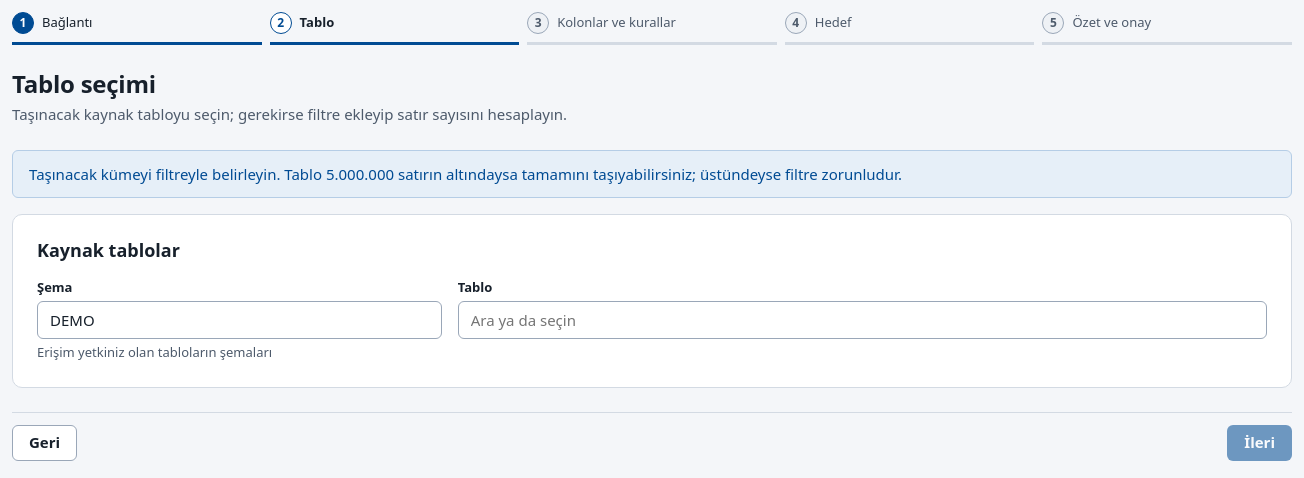
Test case: Tables › tablo yoksa boş metni gösterir
Click the dropdown labelled "Tablo" at (862, 320), box [458, 301, 1267, 339]
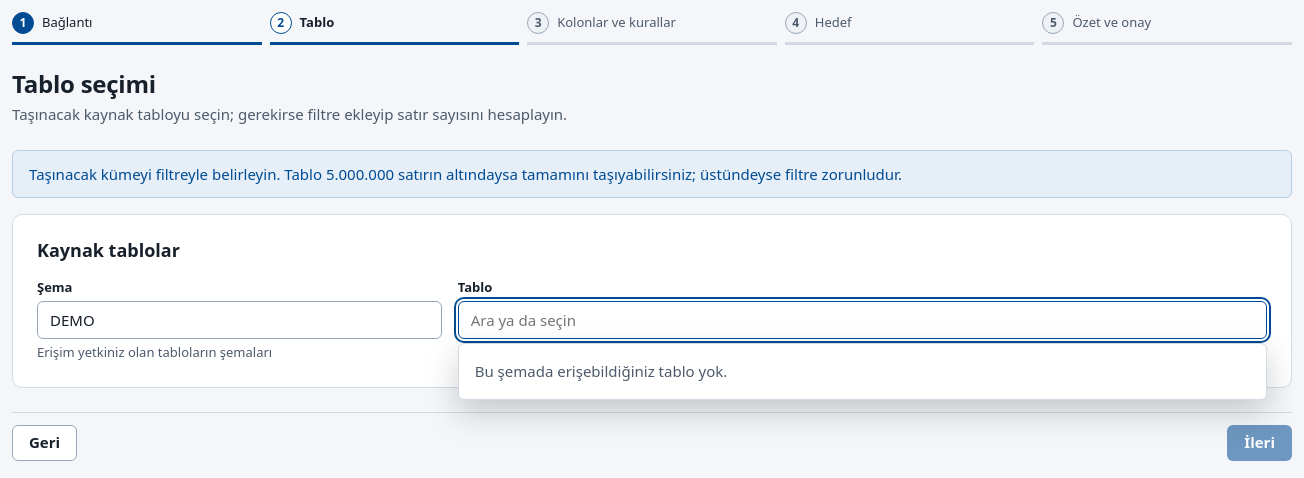
Now the list item "Bu şemada erişebildiğiniz tablo yok." is shown, box [475, 361, 727, 381]
